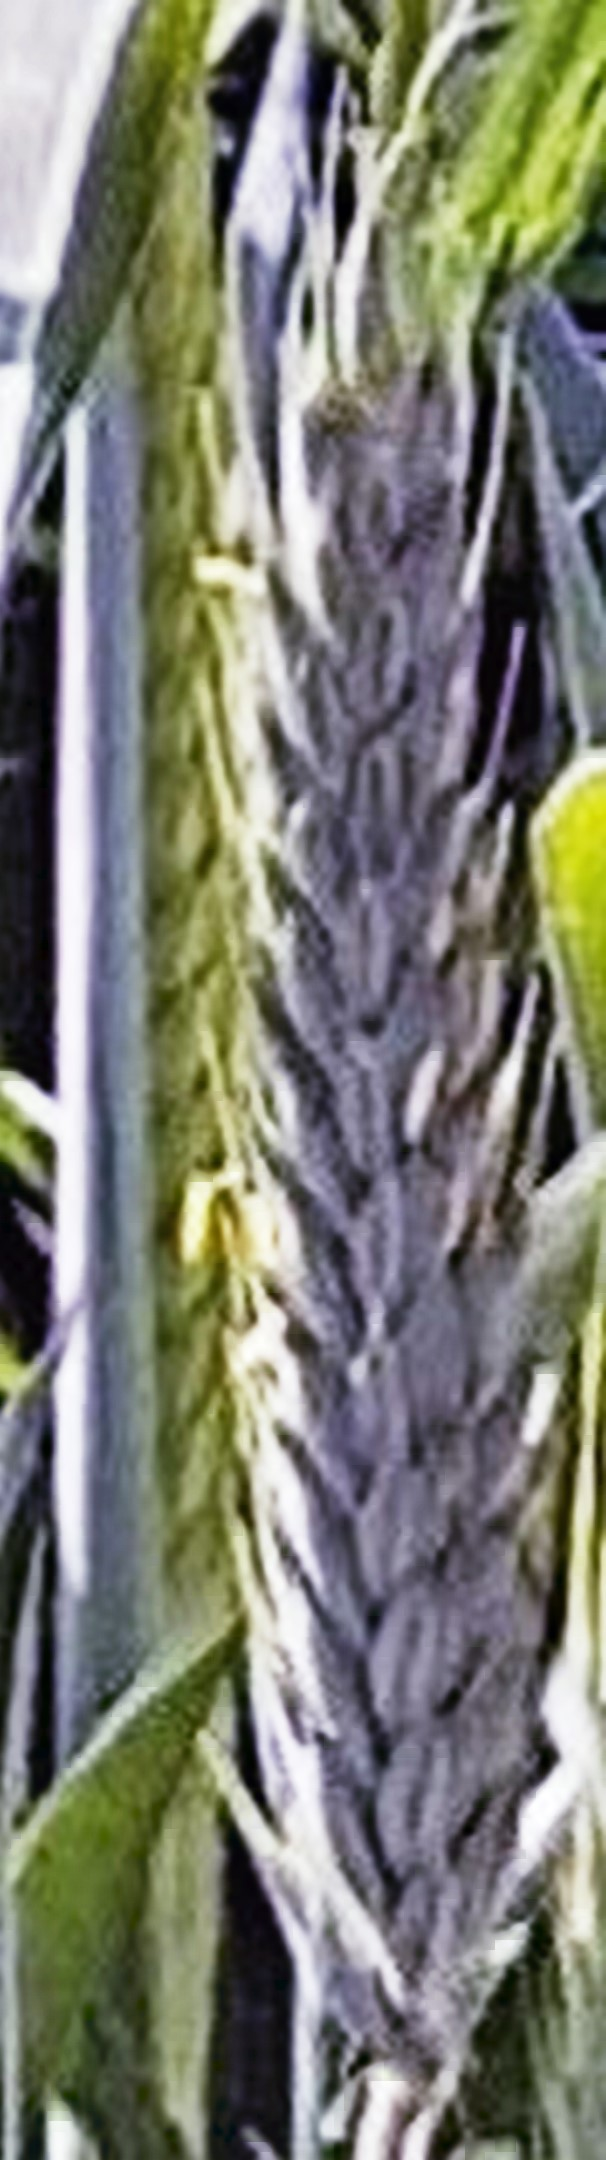Healthy Wheat: (189, 326, 606, 2024)
